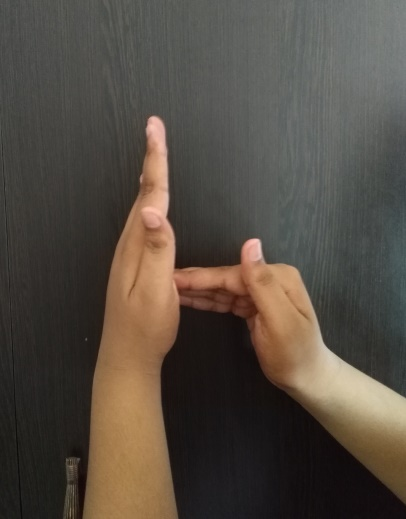ga: (107, 112, 328, 401)
